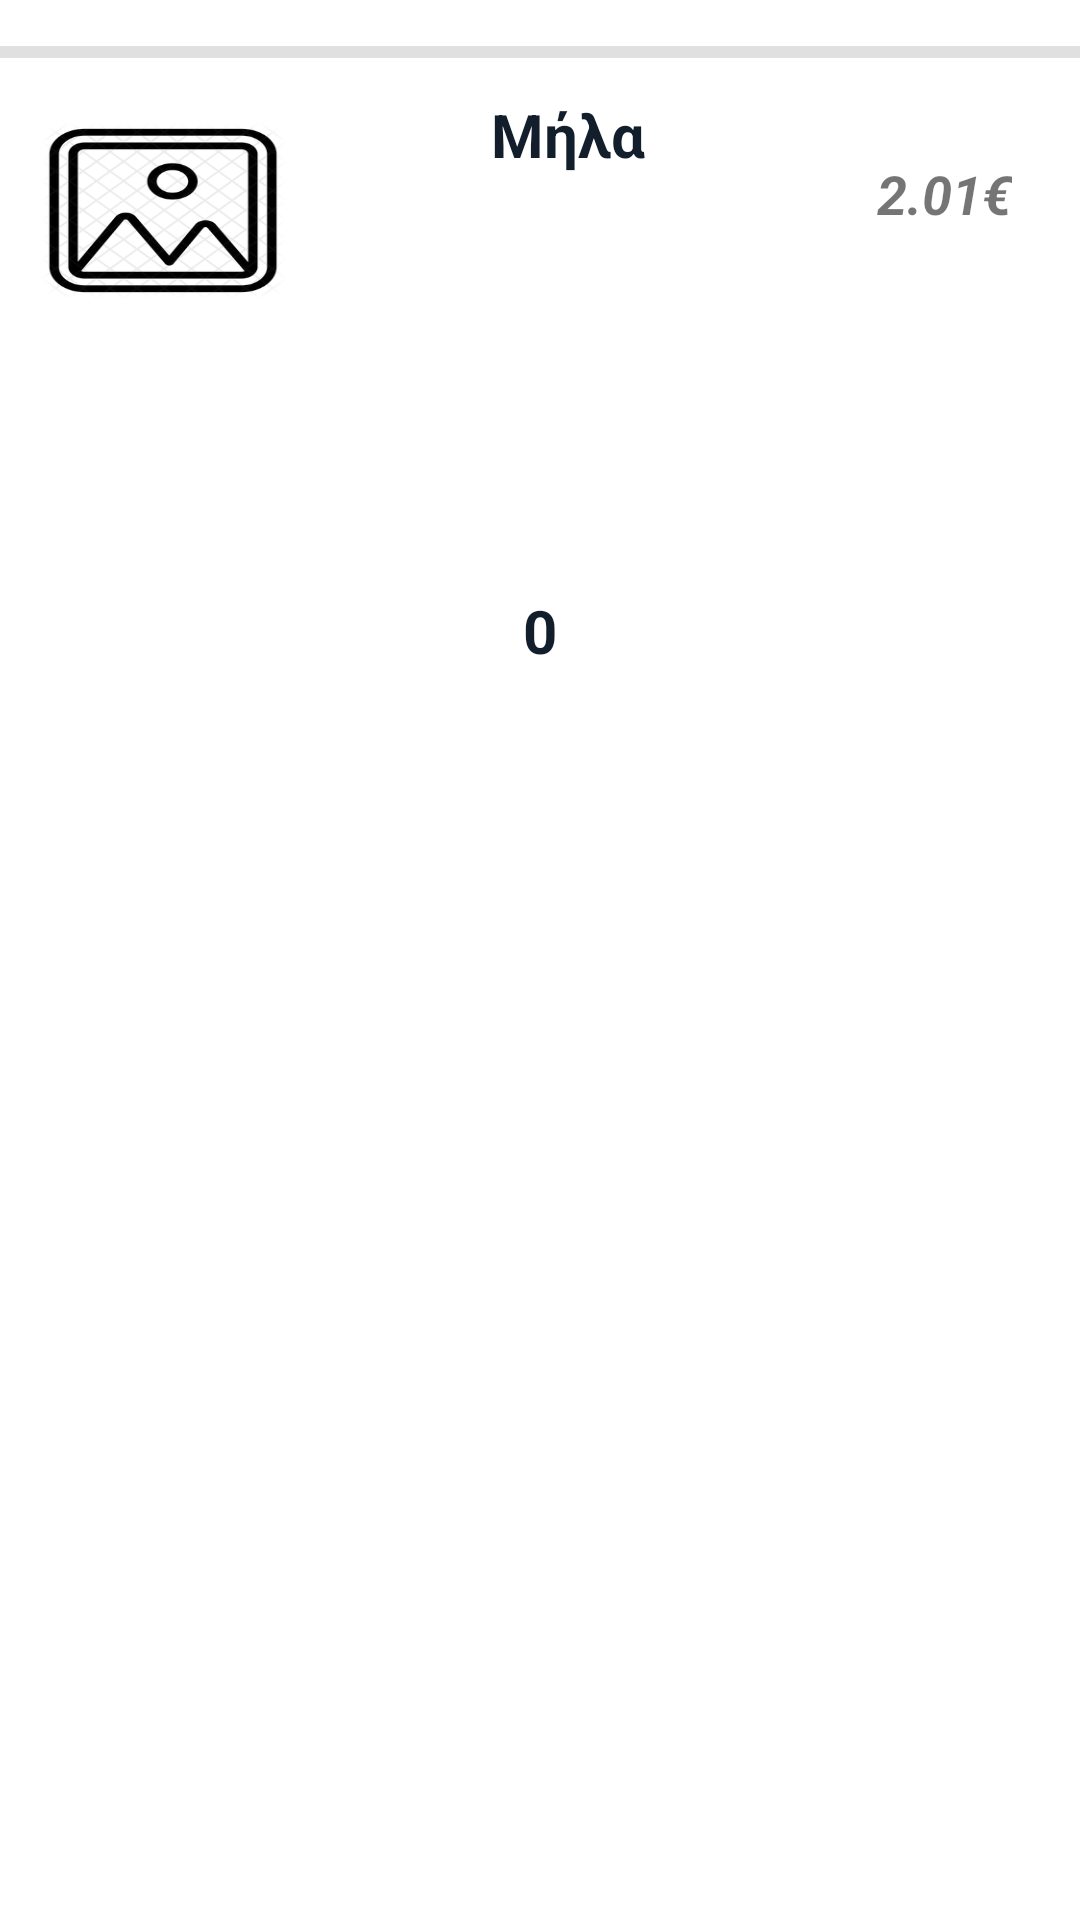

Screen size 1080 × 1920. Icon name, then its box in pixels as (x1,y1,x2,y2):
imageicon: (49,128,277,293)
